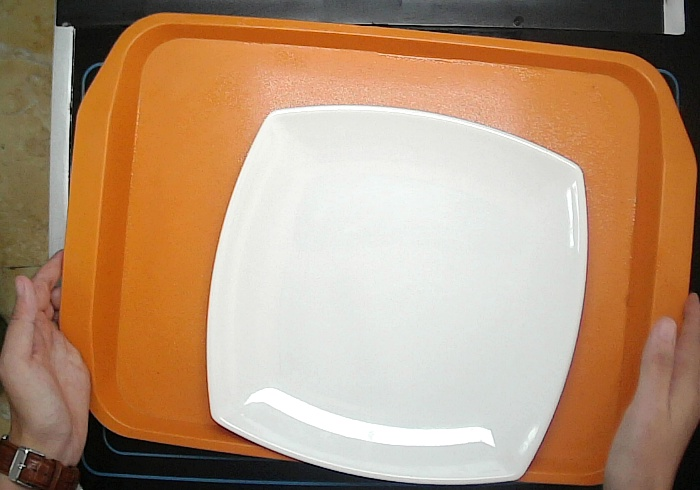ZNLD-Bai_Fang_Pan: (202, 101, 592, 490)
